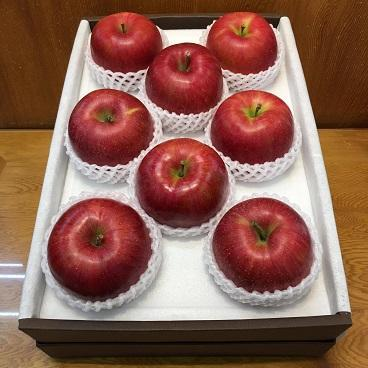apple: (207, 195, 317, 306), (44, 202, 156, 307), (134, 135, 232, 232), (66, 87, 155, 182), (208, 88, 298, 181), (143, 40, 225, 124), (87, 11, 168, 82), (206, 11, 281, 87)
